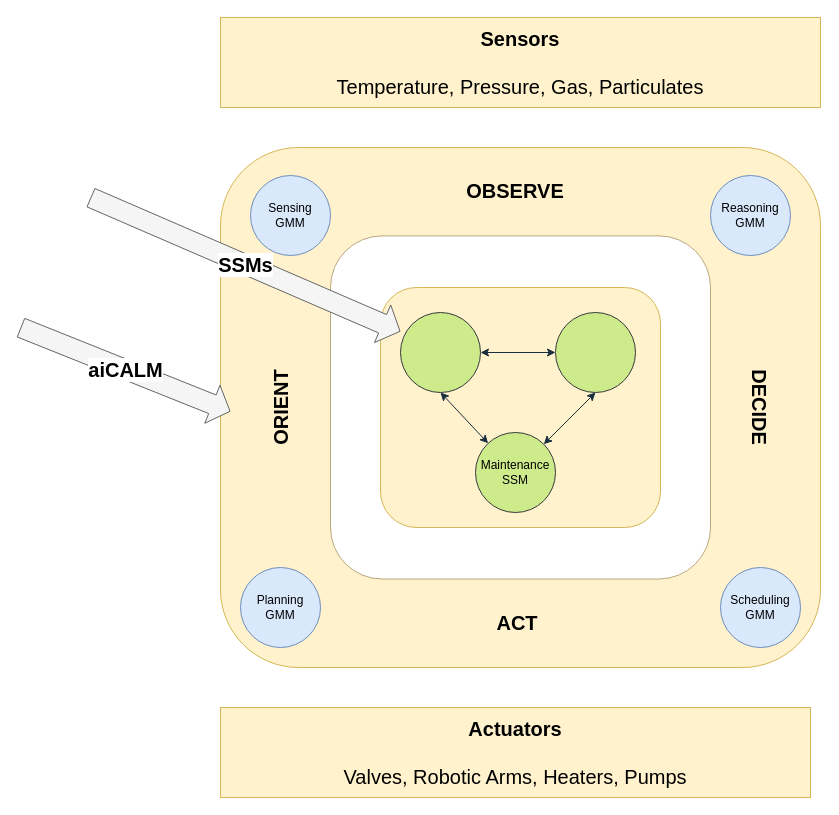
Image size: 839x815. Some labels were removed from this diagram. Here are the shapes that lost their labels. From the top down, the box of each, then its label:
(400, 312, 480, 392): Process Engineering SSM
(554, 312, 636, 392): Quality Assurance SSM
(380, 286, 660, 528): Small Specialist Models
